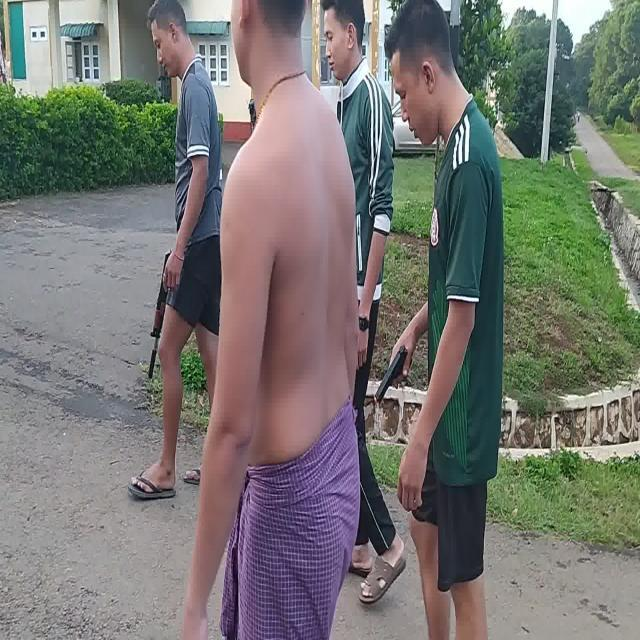gun: (148, 252, 170, 378), (373, 345, 413, 403)
